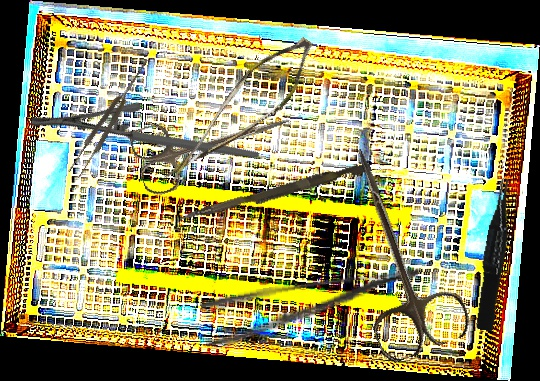Dressing Forceps: (199, 264, 425, 350)
Iris Scissors: (311, 134, 475, 366), (127, 84, 299, 199)
Micro Scissor: (163, 16, 323, 211)
Needle Holder: (27, 50, 260, 228)
Pusher: (179, 157, 372, 229)
Tissue Forceps: (66, 55, 155, 180), (469, 177, 522, 332)
